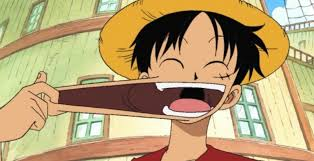luffy: (38, 1, 293, 137)
